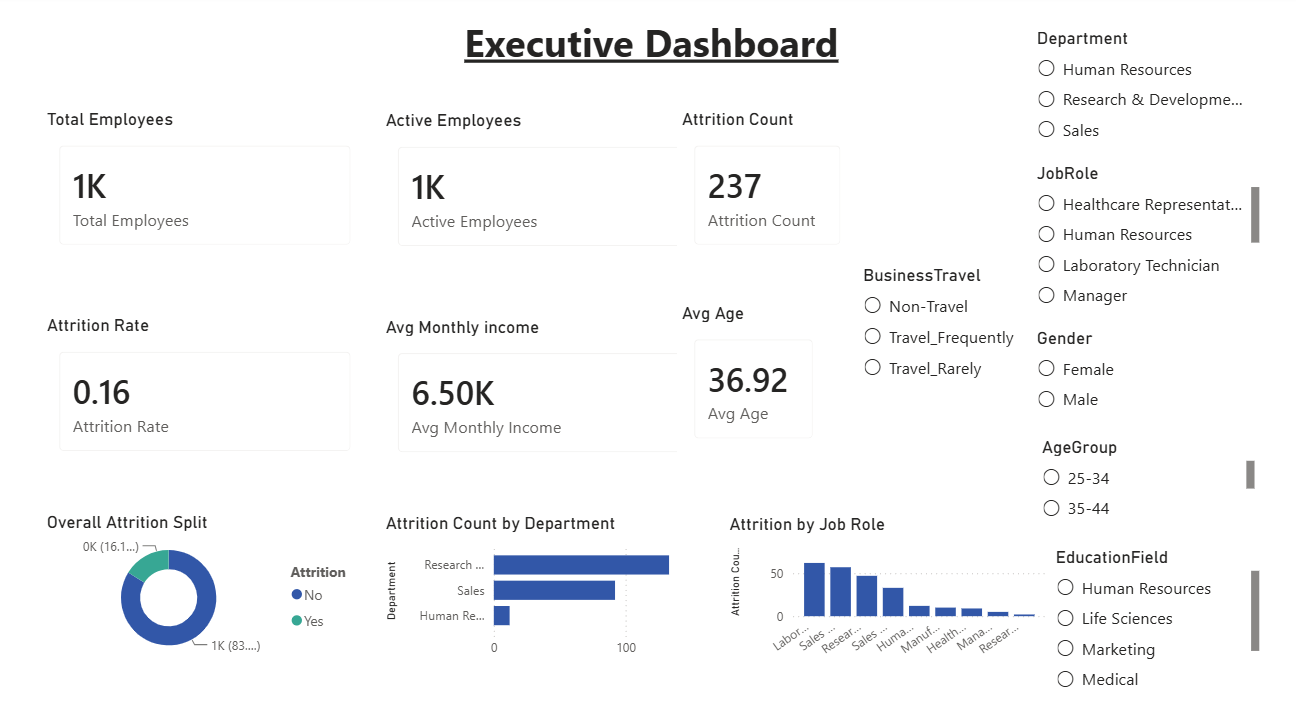

The page's visual inventory and layout, read from the dashboard file:
{"tool":"powerbi","page":{"name":"Executive Dashboard","canvas":[1280,720],"ordinal":0},"visuals":[{"type":"textbox","box":[387.6,15.9,505,66],"z":0},{"type":"cardVisual","title":"Total Employees","fields":{"Data":["hr_employee_cleaned.Total Employees"]},"box":[44,111.3,319.2,150.4],"z":1000},{"type":"cardVisual","title":"Active Employees","fields":{"Data":["hr_employee_cleaned.Active Employees"]},"box":[375.4,112.5,319.2,150.4],"z":2000},{"type":"cardVisual","title":"Attrition Count","fields":{"Data":["hr_employee_cleaned.Attrition Count"]},"box":[665.2,111.3,177.3,150.4],"z":3000},{"type":"cardVisual","title":"Attrition Rate","fields":{"Data":["hr_employee_cleaned.Attrition Rate"]},"box":[44,313,319.2,150.4],"z":4000},{"type":"cardVisual","title":"Avg Monthly income","fields":{"Data":["hr_employee_cleaned.Avg Monthly Income"]},"box":[375.4,314.3,319.2,150.4],"z":5000},{"type":"cardVisual","title":"Avg Age","fields":{"Data":["hr_employee_cleaned.Avg Age"]},"box":[665.2,300.8,150.4,150.4],"z":6000},{"type":"donutChart","title":"Overall Attrition Split","fields":{"Category":["hr_employee_cleaned.Attrition"],"Y":["hr_employee_cleaned.Total Employees"]},"box":[44,505,319.2,150.4],"z":7000},{"type":"barChart","title":"Attrition Count by Department","fields":{"Category":["hr_employee_cleaned.Department"],"Y":["hr_employee_cleaned.Attrition Count"]},"box":[375.4,506.3,319.2,150.4],"z":8000},{"type":"columnChart","title":"Attrition by Job Role","fields":{"Category":["hr_employee_cleaned.JobRole"],"Y":["hr_employee_cleaned.Attrition Count"]},"box":[711.7,507.5,319.2,150.4],"z":9000},{"type":"listSlicer","fields":{"Values":["hr_employee_cleaned.Department"]},"box":[1012.5,31.8,227.4,124.7],"z":10000},{"type":"listSlicer","fields":{"Values":["hr_employee_cleaned.JobRole"]},"box":[1012.5,163.9,227.4,150.4],"z":11000},{"type":"listSlicer","fields":{"Values":["hr_employee_cleaned.Gender"]},"box":[1012.5,325.3,227.4,92.9],"z":12000},{"type":"listSlicer","fields":{"Values":["hr_employee_cleaned.AgeGroup"]},"box":[1021.1,430.4,218.9,92.9],"z":13000},{"type":"listSlicer","fields":{"Values":["hr_employee_cleaned.EducationField"]},"box":[1030.8,539.3,209.1,149.2],"z":14000},{"type":"listSlicer","fields":{"Values":["hr_employee_cleaned.BusinessTravel"]},"box":[842.5,264.1,170,126],"z":15000}]}

Visuals, with their boxes in screenshot pixels (x1, y1, x2, y2), scaled from the page's 1280x720 canvas onto the 1296x717 screenshot:
textbox: box=[392, 16, 904, 82]
"Total Employees" cardVisual: box=[45, 111, 368, 261]
"Active Employees" cardVisual: box=[380, 112, 703, 262]
"Attrition Count" cardVisual: box=[674, 111, 853, 261]
"Attrition Rate" cardVisual: box=[45, 312, 368, 461]
"Avg Monthly income" cardVisual: box=[380, 313, 703, 463]
"Avg Age" cardVisual: box=[674, 300, 826, 449]
"Overall Attrition Split" donutChart: box=[45, 503, 368, 653]
"Attrition Count by Department" barChart: box=[380, 504, 703, 654]
"Attrition by Job Role" columnChart: box=[721, 505, 1044, 655]
listSlicer - hr_employee_cleaned.Department: box=[1025, 32, 1255, 156]
listSlicer - hr_employee_cleaned.JobRole: box=[1025, 163, 1255, 313]
listSlicer - hr_employee_cleaned.Gender: box=[1025, 324, 1255, 416]
listSlicer - hr_employee_cleaned.AgeGroup: box=[1034, 429, 1256, 521]
listSlicer - hr_employee_cleaned.EducationField: box=[1044, 537, 1255, 686]
listSlicer - hr_employee_cleaned.BusinessTravel: box=[853, 263, 1025, 388]
